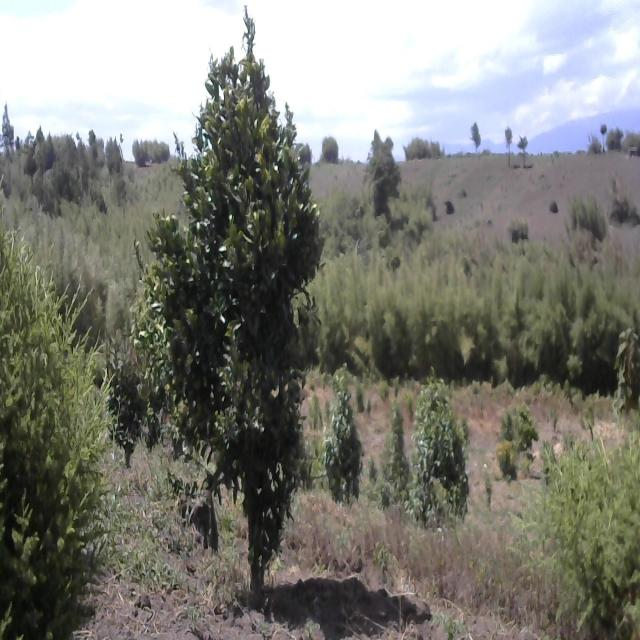cedrus: (0, 213, 120, 633), (551, 414, 640, 640)
other: (145, 44, 347, 588)
